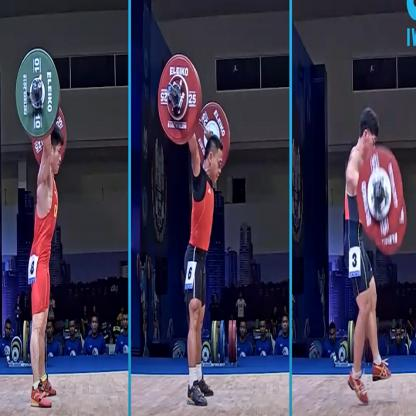Barbell: (350, 136, 408, 244), (12, 41, 64, 144), (152, 47, 203, 149)
